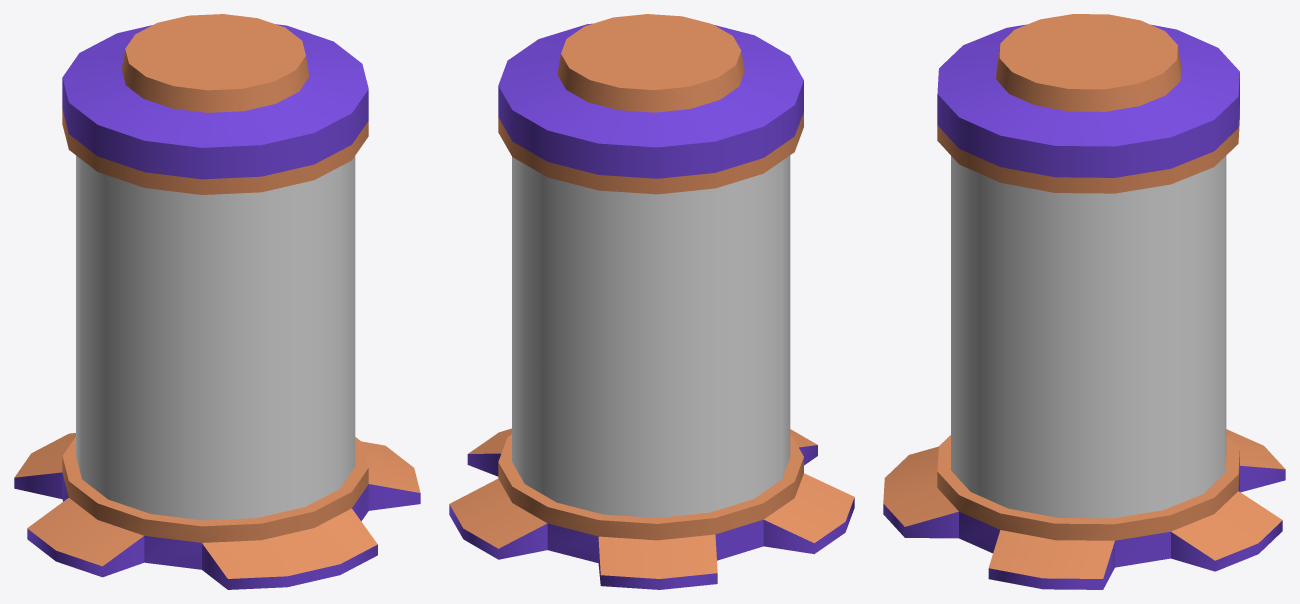
File: GunPlatform.fbx
3 renders of one model, left to right at view 1: azimuth 30°, elevation 25°; view 2: azimuth 150°, elevation 25°; view 3: azimuth 270°, elevation 25°, orthographic.
Visible parts, largest first — view 1: GunHolder; view 2: GunHolder; view 3: GunHolder.
Part boxes in pixels (bbox=[...]): GunHolder: bbox=[14, 14, 420, 589]; GunHolder: bbox=[449, 14, 854, 589]; GunHolder: bbox=[883, 14, 1285, 589].
Bounding box in the file's own units: 266 × 325 × 262.
